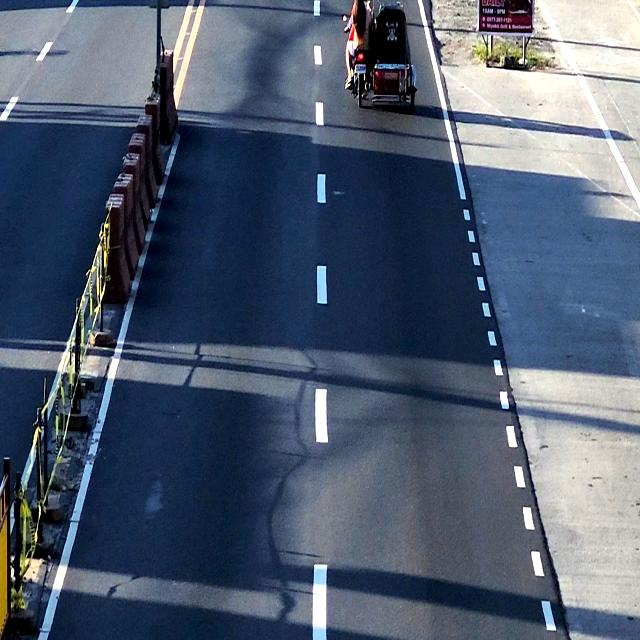Tricycle: (345, 0, 415, 111)
